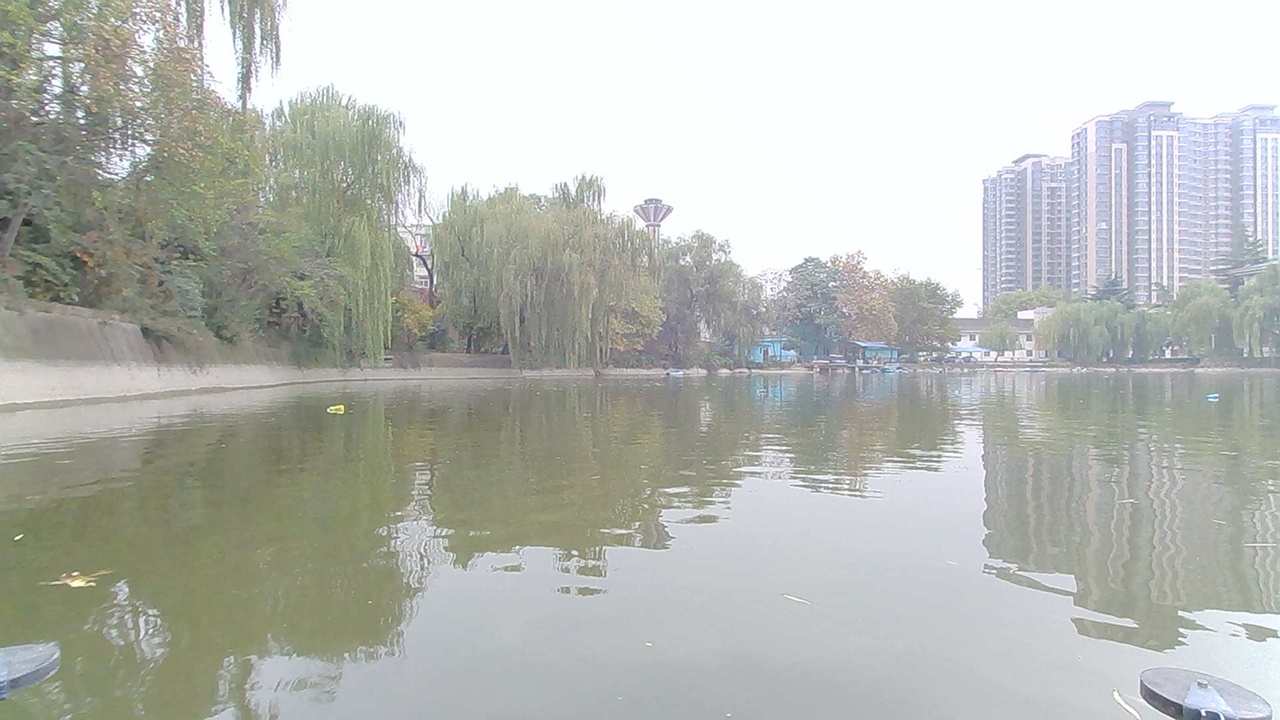bottle: (321, 397, 355, 420), (1203, 389, 1234, 412), (748, 386, 777, 401)
